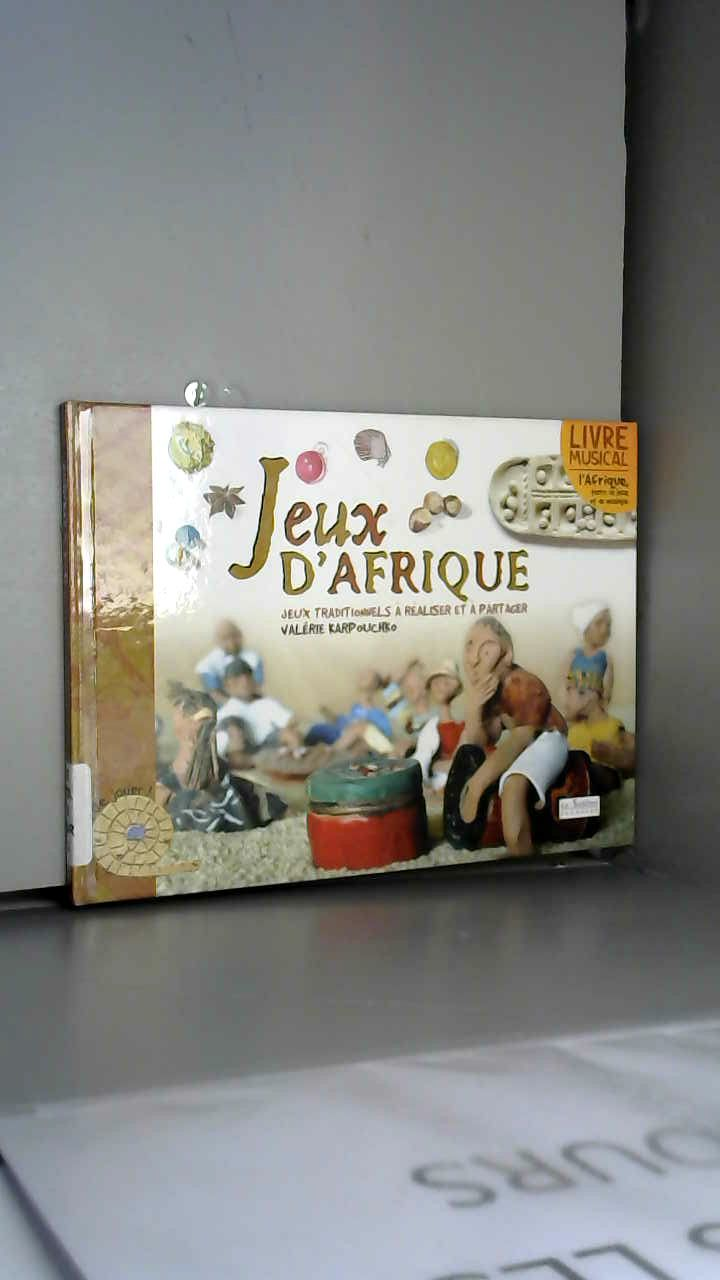book: (30, 360, 720, 942)
